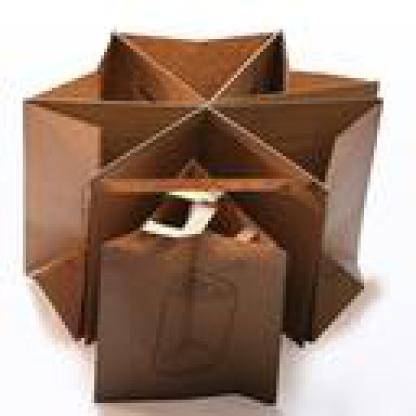CARDBOARD: (13, 29, 380, 400)
